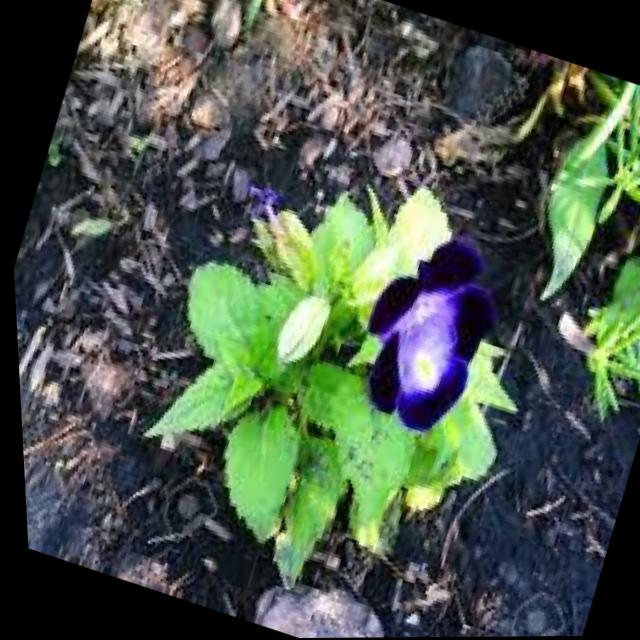Flower: (316, 202, 539, 455)
